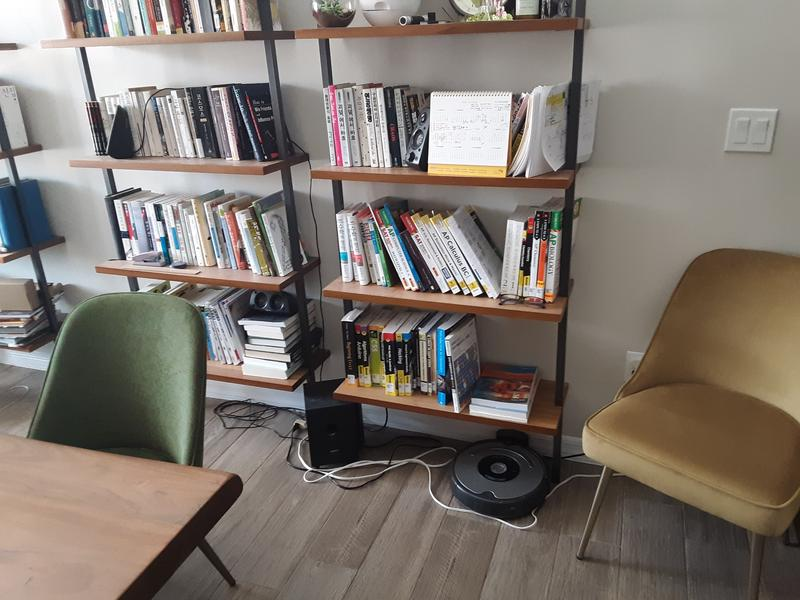glasses: (495, 292, 547, 309)
